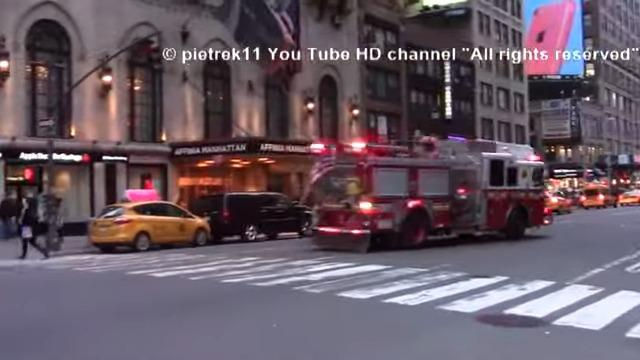Fire-engine: (302, 132, 553, 252)
